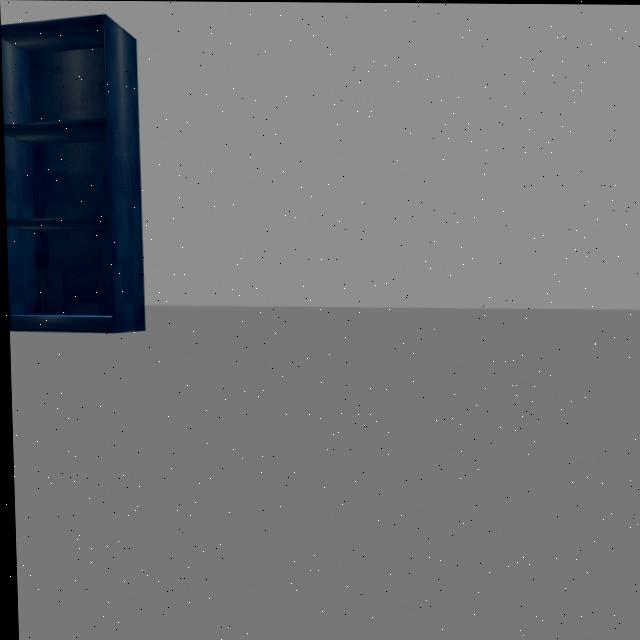shelf: (0, 0, 156, 357)
